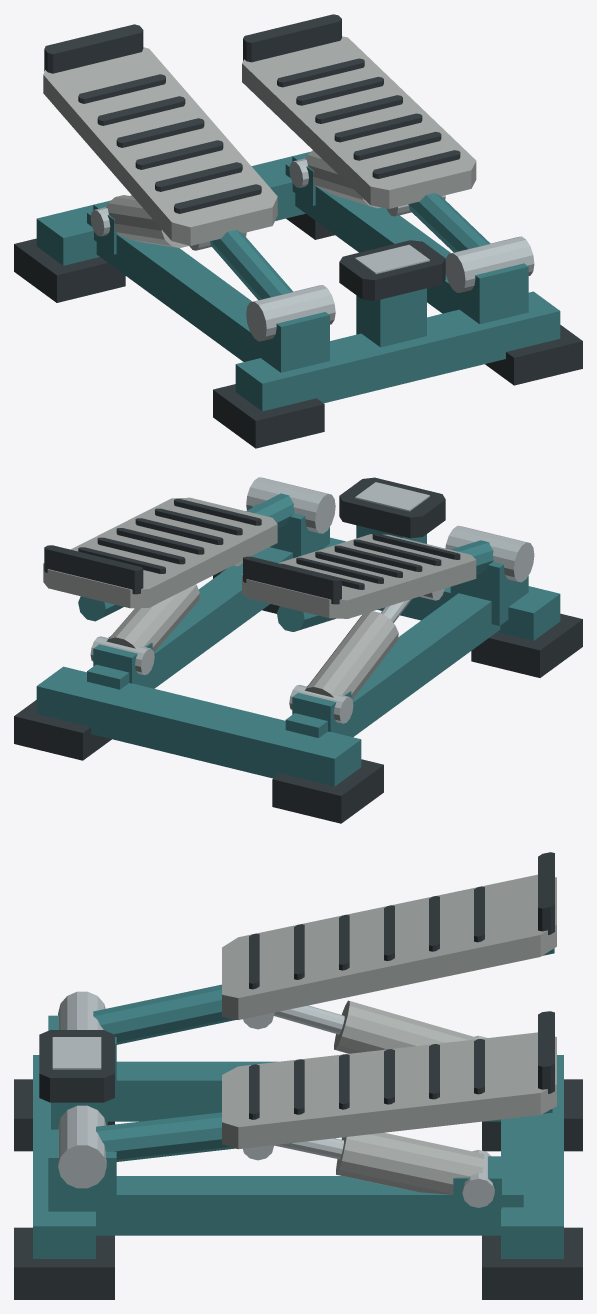
3 views of the same model, one above another, from view 1: azimuth 30°, elevation 25°; view 2: azimuth 150°, elevation 25°; view 3: azimuth 270°, elevation 25° (orthographic). The views are drawn at different scales.
Parts seen in each view (by area): view 1: WholeWeldedHGroundChassis, WholeLeftChamferedFootplate, WholeRightChamferedFootplate, WholeLeftFrontGroundPad, WholeLeftRearGroundPad, WholeBlankMeterBody, WholeRightFrontBearingPedestal, WholeLeftFrontBearingPedestal, WholeFrontMeterPedestal, WholeRightFrontGroundPad, WholeLeftShortHeelStop, WholeRightFrontHingePin (+20 smaller); view 2: WholeWeldedHGroundChassis, WholeRightChamferedFootplate, WholeLeftChamferedFootplate, WholeLeftRearGroundPad, WholeLeftCylinderBody, WholeLeftFrontGroundPad, WholeBlankMeterBody, WholeRightRearGroundPad, WholeRightCylinderBody, WholeRightShortHeelStop, WholeLeftShortHeelStop, WholeRightFrontHingePin (+21 smaller); view 3: WholeWeldedHGroundChassis, WholeRightChamferedFootplate, WholeLeftChamferedFootplate, WholeRightCylinderBody, WholeRightFrontGroundPad, WholeRightRearGroundPad, WholeLeftCompletePedalLever, WholeRightCompletePedalLever, WholeLeftCylinderBody, WholeBlankMeterBody, WholeRightFrontHingePin, WholeRightFrontBearingPedestal (+23 smaller).
Boxes of the visible parts, x1,y1,x2,y2 form: WholeWeldedHGroundChassis: [36, 152, 560, 411]; WholeLeftChamferedFootplate: [43, 47, 277, 245]; WholeRightChamferedFootplate: [242, 36, 476, 208]; WholeLeftFrontGroundPad: [213, 384, 324, 448]; WholeLeftRearGroundPad: [14, 238, 125, 302]; WholeBlankMeterBody: [339, 240, 445, 300]; WholeRightFrontBearingPedestal: [450, 263, 528, 324]; WholeLeftFrontBearingPedestal: [252, 312, 329, 372]; WholeFrontMeterPedestal: [356, 288, 426, 347]; WholeRightFrontGroundPad: [485, 325, 582, 385]; WholeLeftShortHeelStop: [44, 24, 143, 73]; WholeRightFrontHingePin: [445, 236, 534, 292]; WholeWeldedHGroundChassis: [36, 537, 560, 786]; WholeRightChamferedFootplate: [43, 497, 277, 608]; WholeLeftChamferedFootplate: [242, 534, 476, 618]; WholeLeftRearGroundPad: [272, 759, 383, 823]; WholeLeftCylinderBody: [305, 611, 398, 699]; WholeLeftFrontGroundPad: [471, 613, 582, 677]; WholeBlankMeterBody: [339, 477, 445, 538]; WholeRightRearGroundPad: [14, 700, 111, 760]; WholeRightCylinderBody: [106, 584, 199, 651]; WholeRightShortHeelStop: [44, 545, 143, 594]; WholeLeftShortHeelStop: [243, 556, 341, 604]; WholeRightFrontHingePin: [246, 477, 335, 533]; WholeWeldedHGroundChassis: [33, 1055, 563, 1258]; WholeRightChamferedFootplate: [222, 1032, 556, 1149]; WholeLeftChamferedFootplate: [222, 874, 556, 1019]; WholeRightCylinderBody: [336, 1132, 484, 1194]; WholeRightFrontGroundPad: [14, 1227, 114, 1299]; WholeRightRearGroundPad: [482, 1227, 582, 1299]; WholeLeftCompletePedalLever: [93, 948, 554, 1044]; WholeRightCompletePedalLever: [96, 1109, 552, 1161]; WholeLeftCylinderBody: [334, 1000, 480, 1053]; WholeBlankMeterBody: [39, 1030, 114, 1102]; WholeRightFrontHingePin: [58, 1105, 106, 1188]; WholeRightFrontBearingPedestal: [48, 1129, 116, 1226].
Size of the model in its own units: 0.494 by 0.3312 by 0.632.
